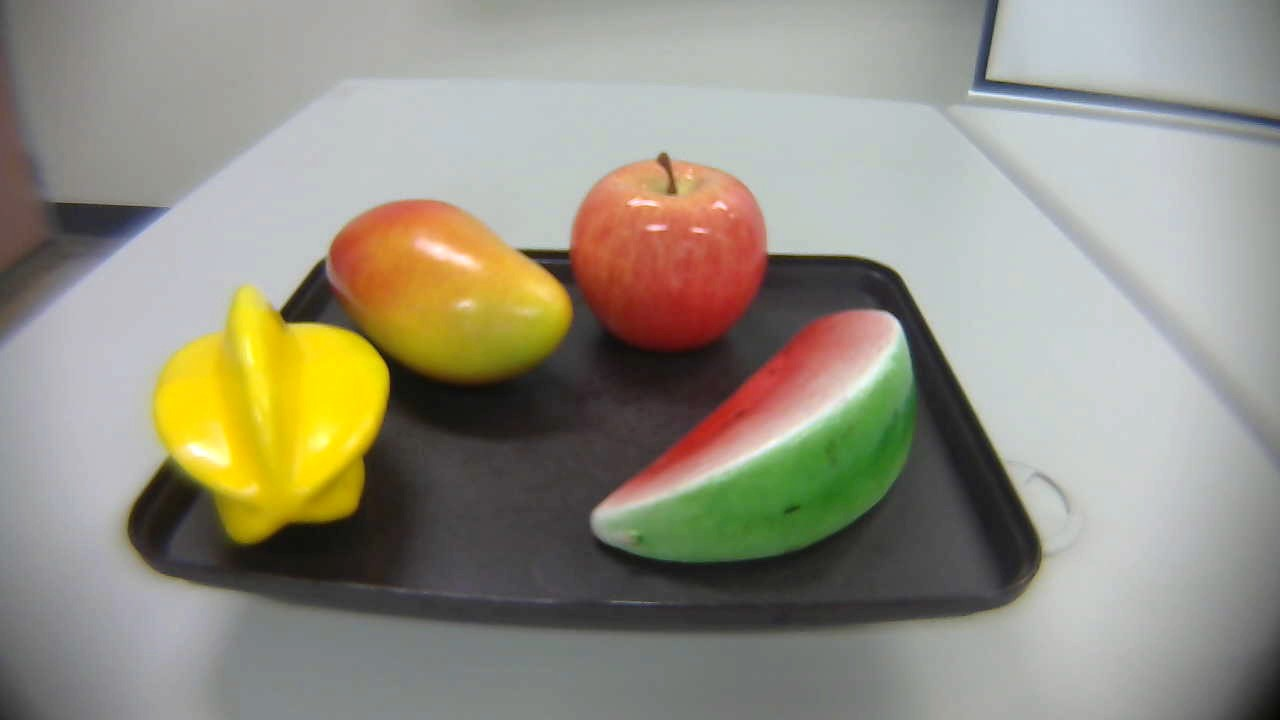red apple: (575, 156, 767, 366)
red mango: (318, 196, 575, 389)
star fruit: (145, 276, 395, 544)
water melon: (570, 288, 932, 568)
